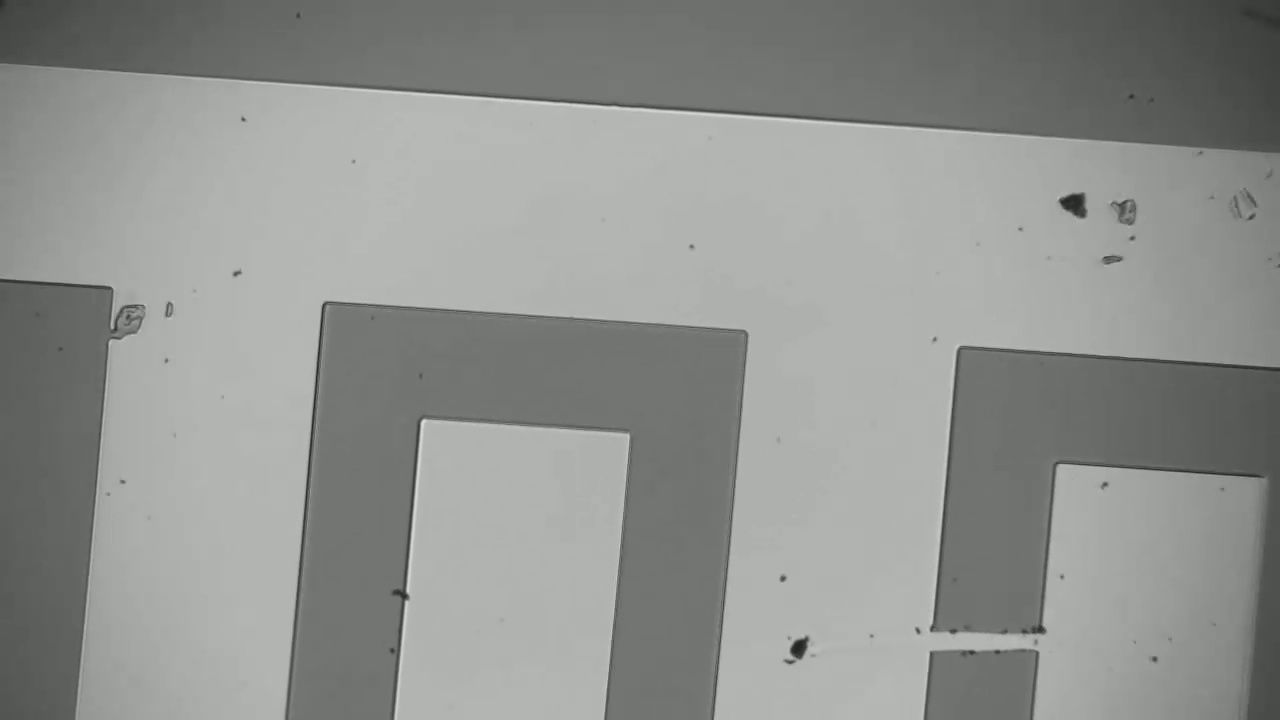Short_circuit: (896, 608, 1068, 679)
